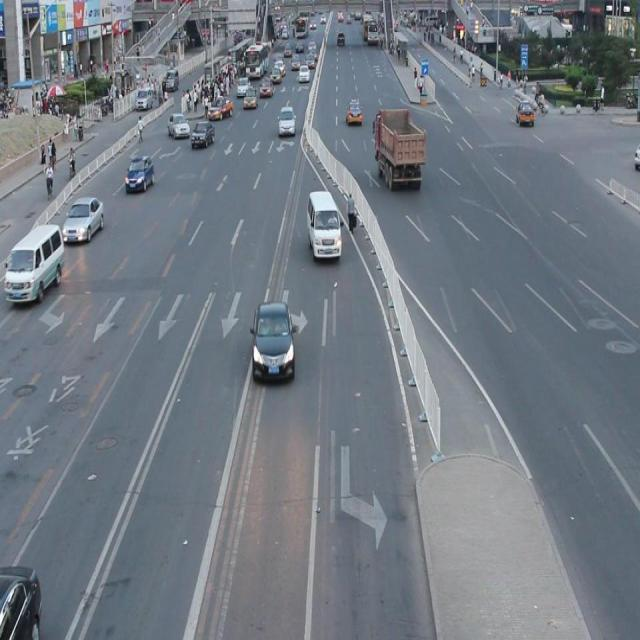BigCar: (364, 110, 434, 200)
car: (15, 218, 63, 328), (255, 289, 297, 397), (114, 135, 162, 221), (60, 174, 112, 253), (302, 190, 347, 262), (342, 88, 374, 130), (512, 98, 544, 134), (165, 106, 190, 150), (277, 94, 298, 142), (195, 113, 212, 161), (330, 23, 350, 61), (242, 74, 258, 120), (301, 61, 310, 90)
